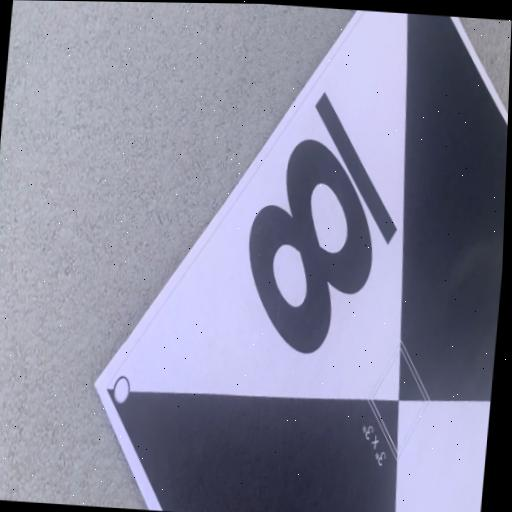target8: (94, 10, 508, 512)
